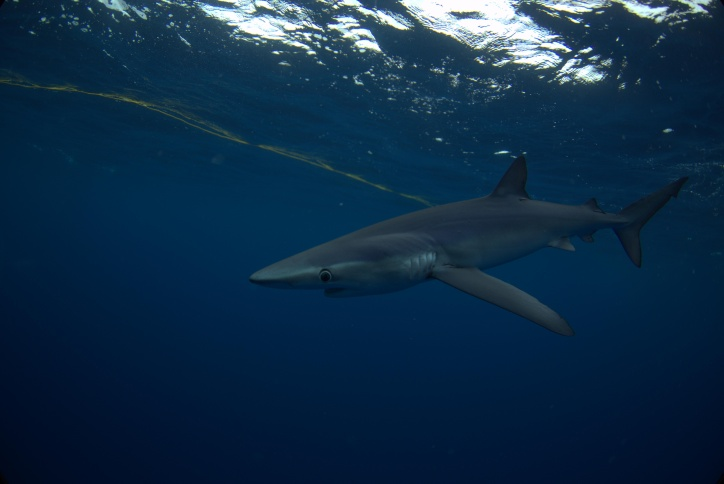Azul: (242, 131, 705, 348)
